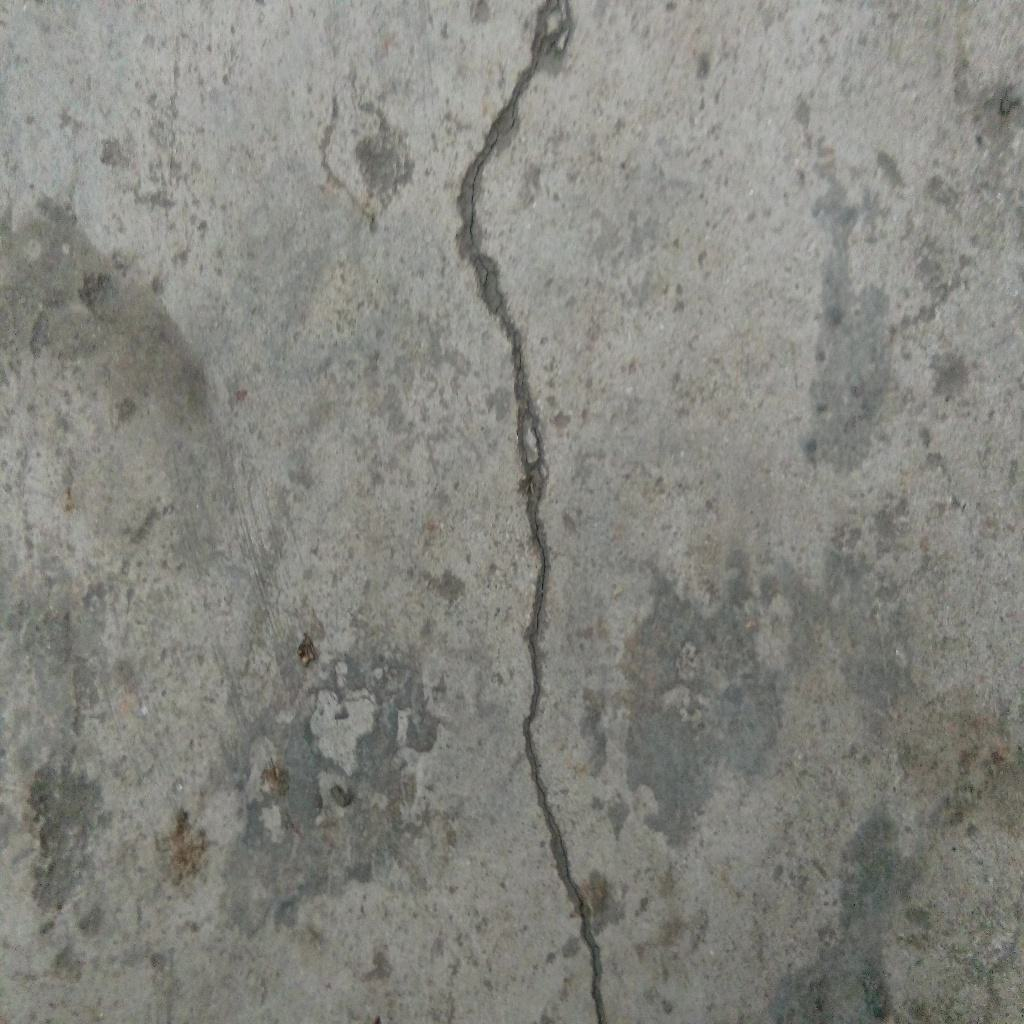Crack: (455, 1, 607, 1024)
